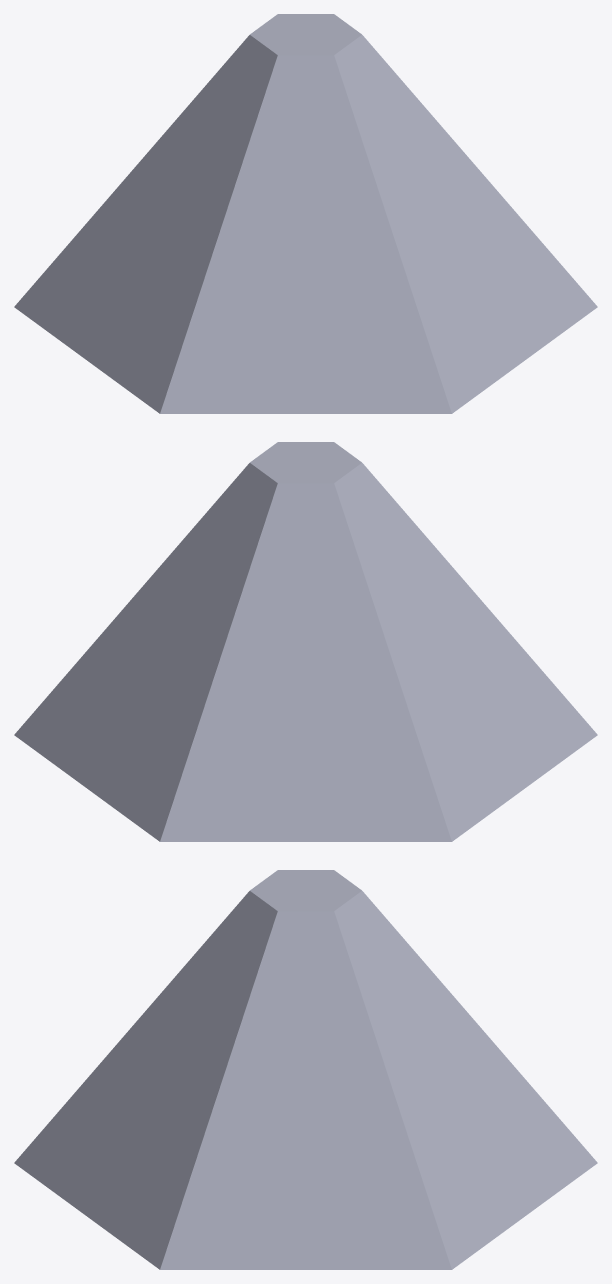
The model's file is Lamp 2.fbx.
3 views of the same model, one above another, from view 1: azimuth 30°, elevation 25°; view 2: azimuth 150°, elevation 25°; view 3: azimuth 270°, elevation 25° (orthographic).
Visible parts, largest first — view 1: lamp 2; view 2: lamp 2; view 3: lamp 2.
Part boxes in pixels (x1=…): lamp 2: x1=14, y1=14, x2=597, y2=413; lamp 2: x1=14, y1=442, x2=597, y2=841; lamp 2: x1=14, y1=870, x2=597, y2=1269.
Bounding box in the file's own units: 26.17 × 15.72 × 30.21.
